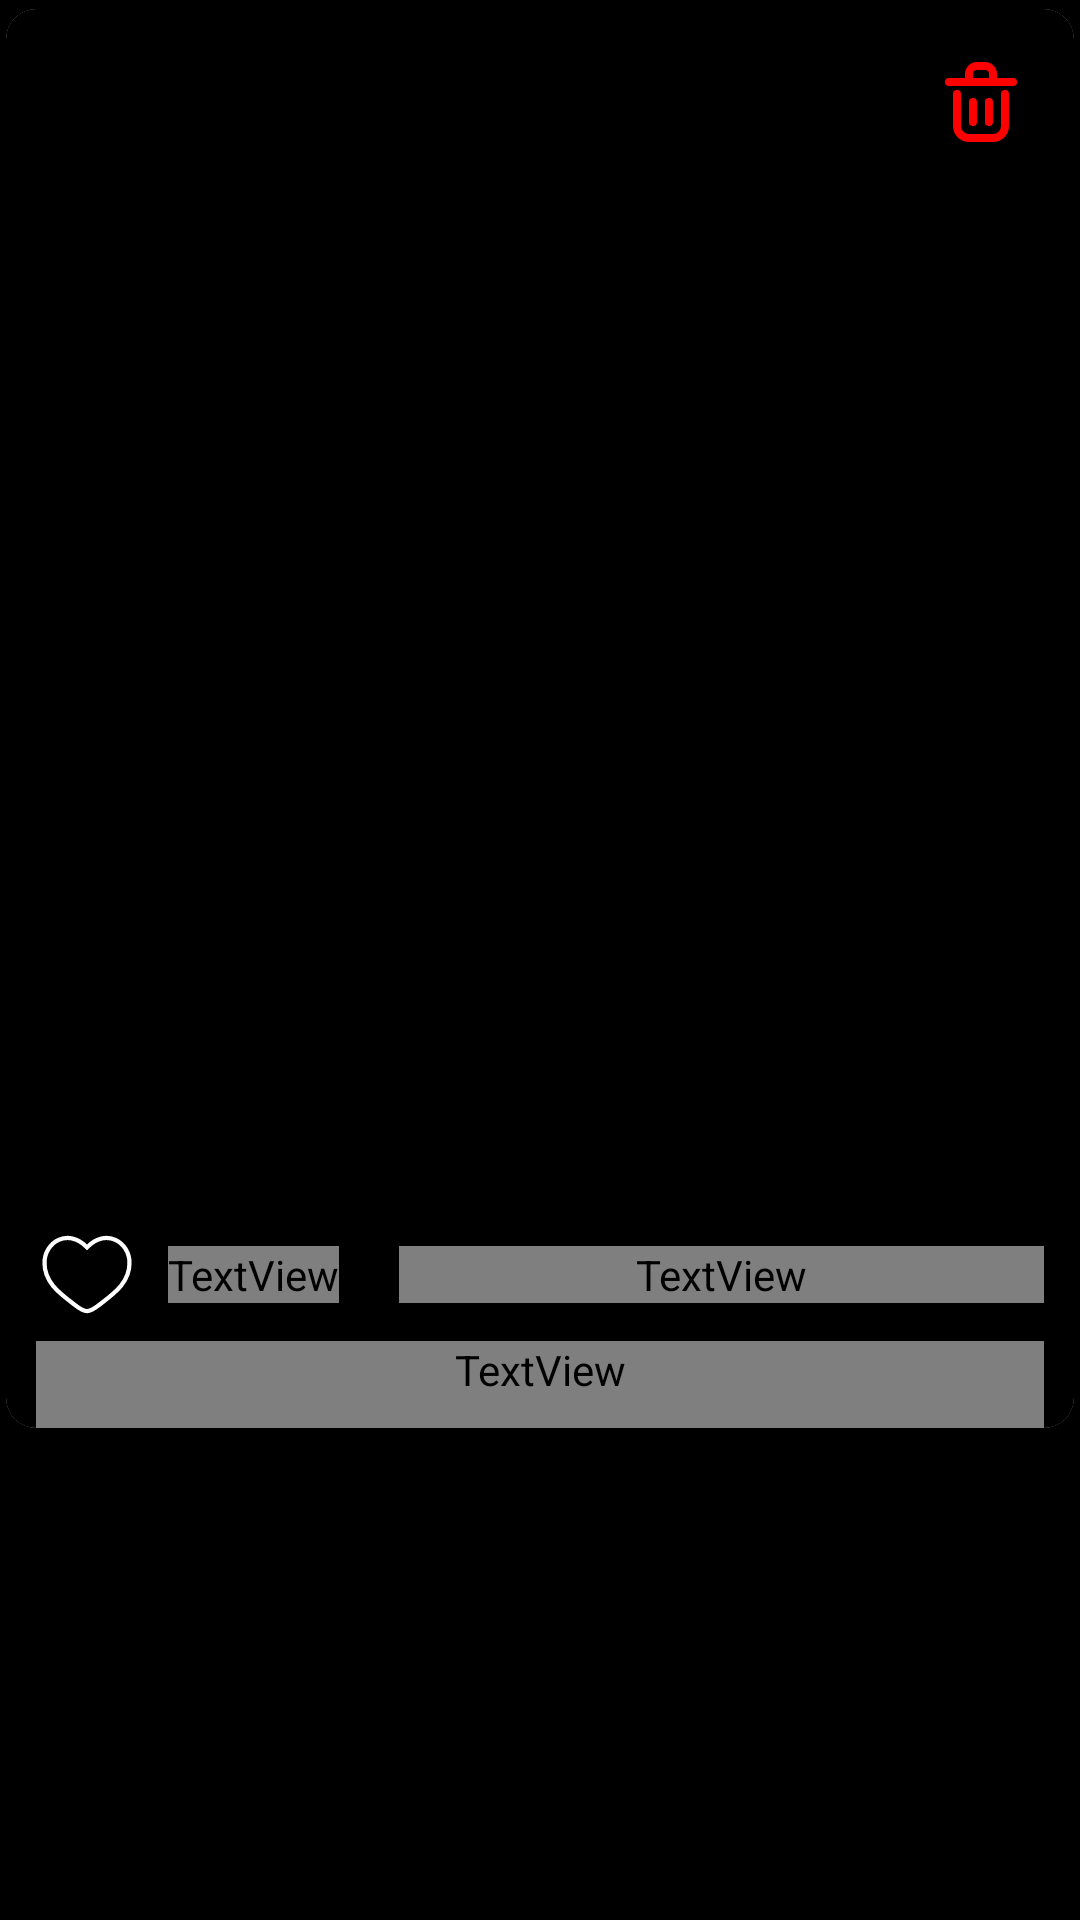

Screen size 1080px×1920px. Icon name, then its center in pixels as [x,y]:
delete: [981,102]
